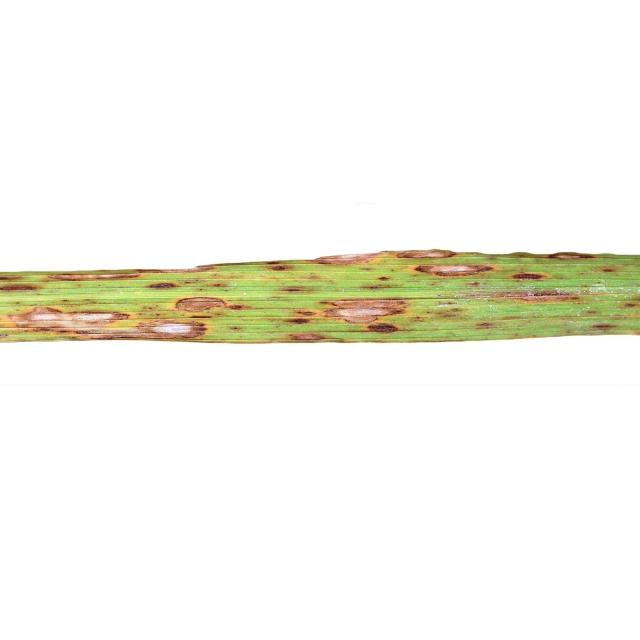Leaf blast: (0, 192, 640, 401)
